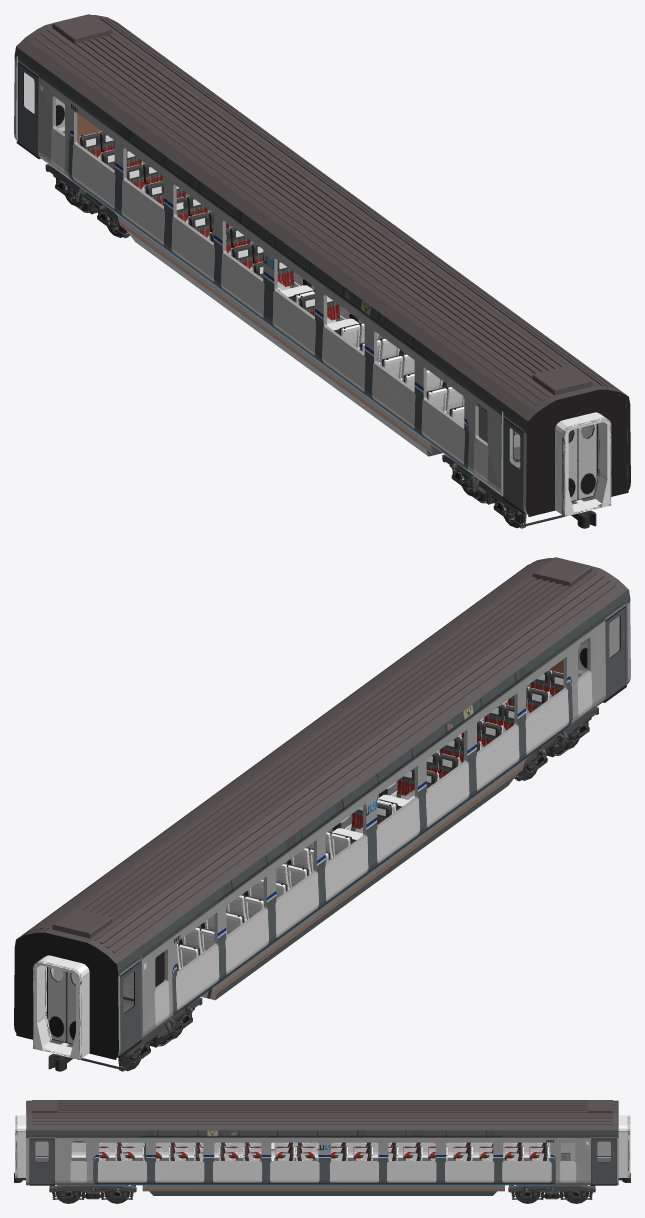
Rendered from srt_brmark3_chiltern.obj.
3 renders of one model, top to bottom at view 1: azimuth 30°, elevation 25°; view 2: azimuth 150°, elevation 25°; view 3: azimuth 270°, elevation 25°, orthographic. The views are drawn at different scales.
Visible parts, largest first — view 1: sidenew, jibung, jibungbong, chairs, back, sideunder, DT71, mak, backdoor, door_RF, door_RB, wall; view 2: sidenew, jibung, jibungbong, chairs, back, sideunder, DT71, mak, backdoor, door_RB, door_RF, wall; view 3: sidenew, jibungbong, jibung, chairs, sideunder, DT71, inside, mak, door_LF, door_LB, badak, wall (+2 smaller).
Part boxes in pixels (box(x1,y1,x2,y2)): sidenew: box(14, 22, 630, 516); jibung: box(16, 14, 626, 420); jibungbong: box(28, 17, 616, 409); chairs: box(78, 131, 514, 435); back: box(528, 389, 628, 516); sideunder: box(117, 215, 435, 456); DT71: box(45, 164, 596, 528); mak: box(555, 412, 611, 516); backdoor: box(56, 98, 596, 500); door_RF: box(503, 412, 524, 511); door_RB: box(18, 57, 38, 156); wall: box(77, 113, 573, 466); sidenew: box(14, 565, 630, 1057); jibung: box(17, 557, 628, 963); jibungbong: box(28, 560, 616, 952); chairs: box(177, 670, 563, 971); back: box(16, 932, 116, 1059); sideunder: box(207, 759, 524, 999); DT71: box(48, 707, 598, 1071); mak: box(33, 955, 89, 1059); backdoor: box(48, 642, 587, 1043); door_RB: box(119, 956, 140, 1055); door_RF: box(605, 601, 625, 699); wall: box(53, 659, 563, 1006); sidenew: box(26, 1102, 618, 1185); jibungbong: box(32, 1100, 612, 1124); jibung: box(26, 1100, 618, 1130); chairs: box(99, 1142, 548, 1160); sideunder: box(142, 1185, 504, 1195); DT71: box(14, 1173, 630, 1203); inside: box(26, 1103, 610, 1157); mak: box(15, 1115, 630, 1177); door_LF: box(29, 1135, 54, 1184); door_LB: box(591, 1135, 616, 1184); badak: box(35, 1158, 610, 1161); wall: box(561, 1142, 575, 1160).
Size of the model in its own units: 2.74 by 3.91 by 24.1.
20 materials, 20 textured.
